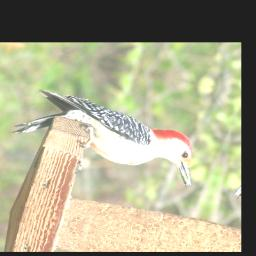Woodpecker: (3, 85, 210, 191)
